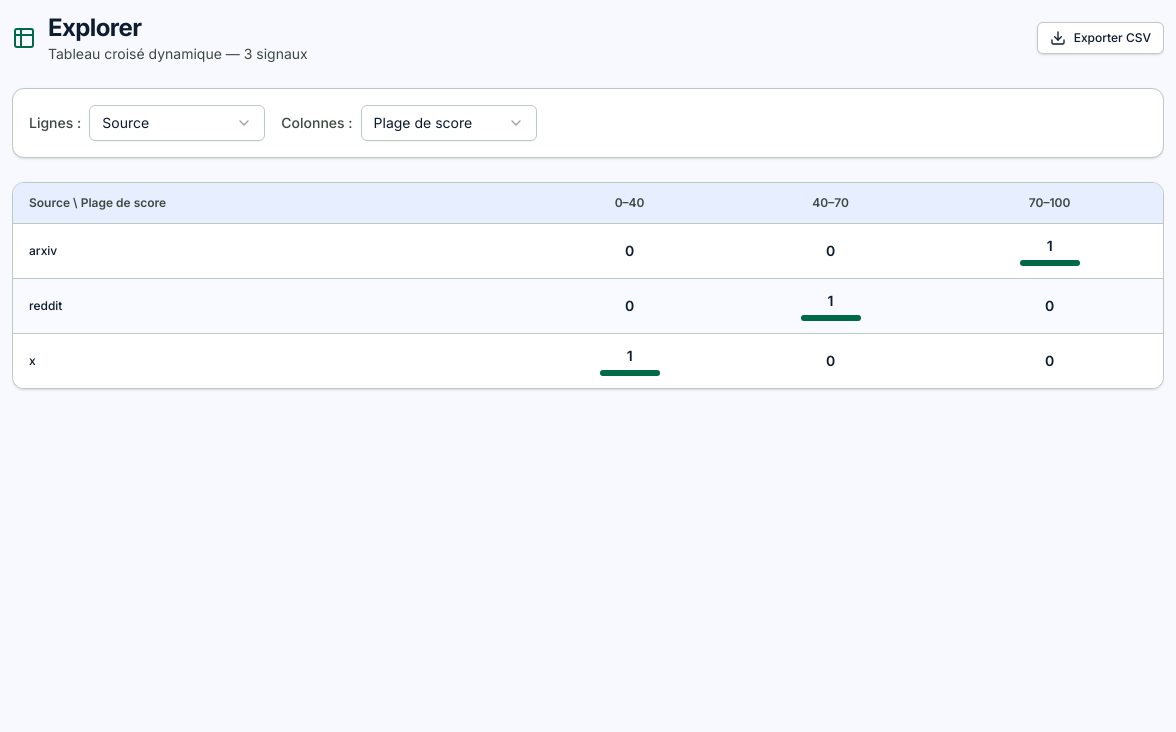
Scenario: Explorer page › clic sur une cellule affiche le panneau drill-down avec les signaux
Click the cell with test id "cell-arxiv-70–100" at (1050, 251), box [936,224,1163,278]
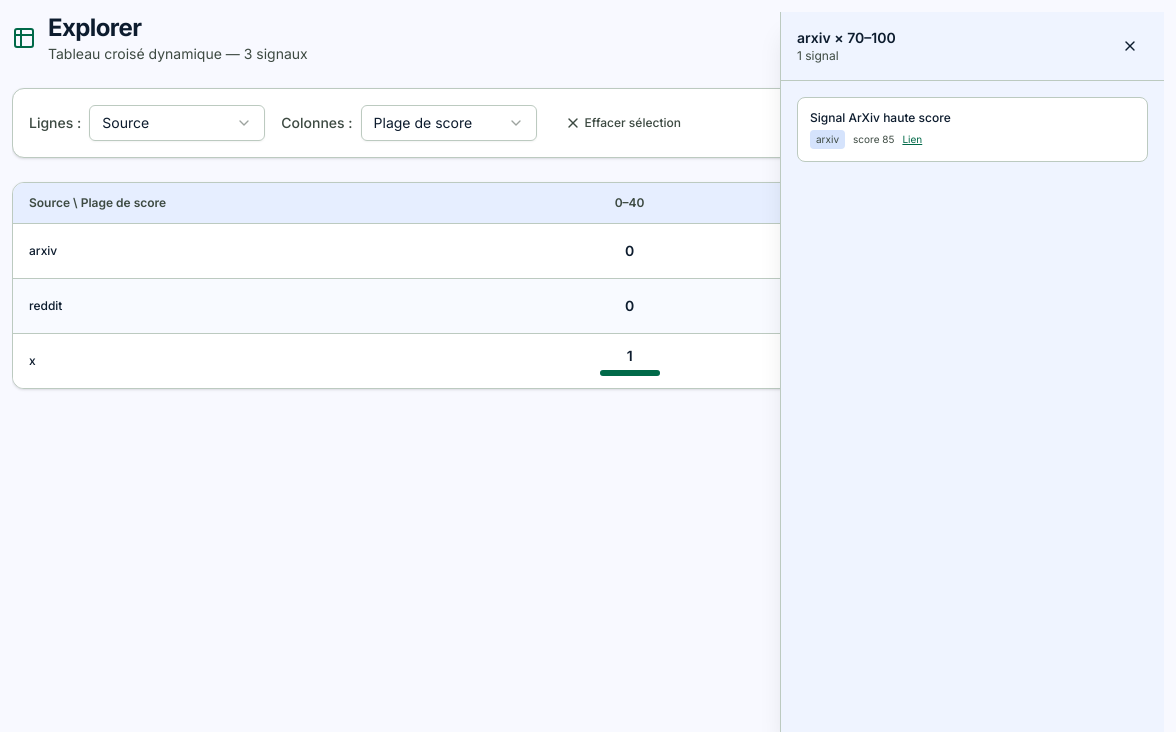
Now the element with test id "signal-preview-panel" is shown, box [780,12,1164,731]
Now the text "Signal ArXiv haute score" is shown, box [810,110,951,125]
